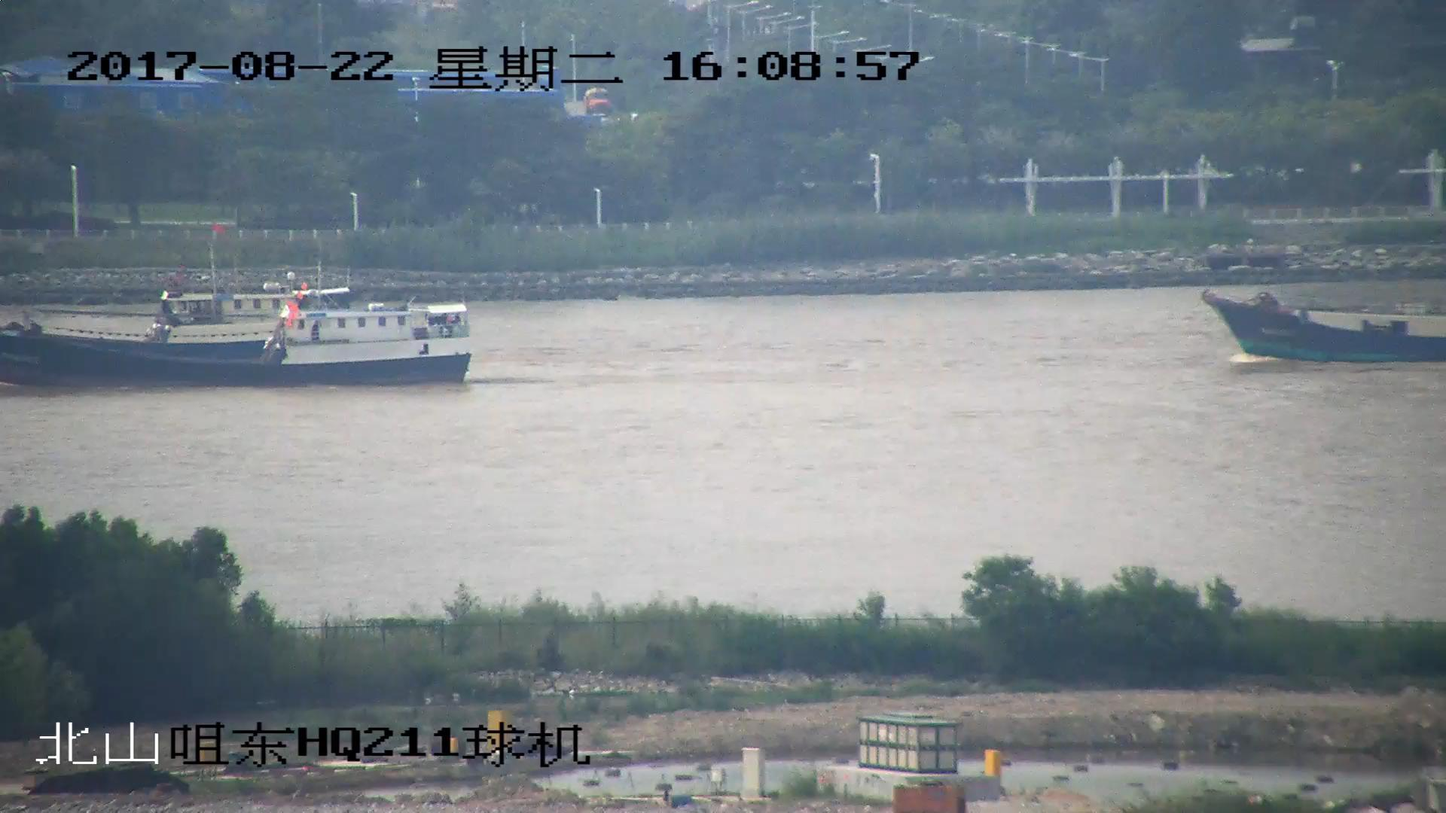fishing boat: (0, 279, 474, 388), (0, 229, 355, 351), (1205, 290, 1445, 362)
